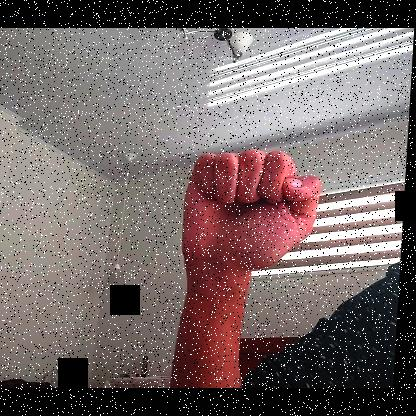A: (182, 148, 324, 268)
